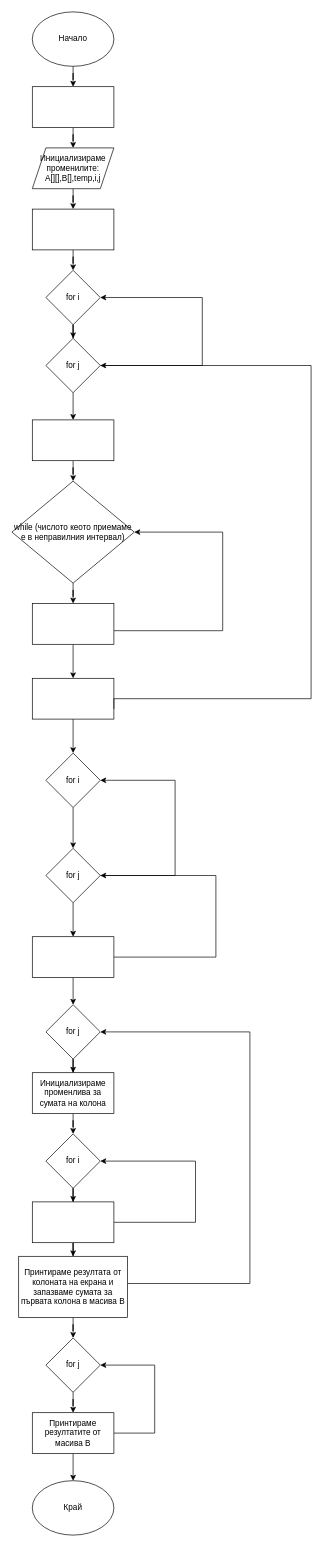
Some shapes in this 328 by 1547 pixel diagram are drawn without their labels. Here are the shapes that lost their labels. From the top down, the centre of each, then its label:
At [73,107]: "Принтираме условието на задачата".
At [73,229]: "Принтираме на екрана че искаме да бъдат въведени стойности".
At [73,440]: "Приемаме число".
At [73,623]: "Приемаме отново число".
At [73,698]: "Запазваме числото като елемент в масива".
At [73,957]: "Принтираме елемента".
At [73,1222]: "Събираме елемента в променливата за сума".
